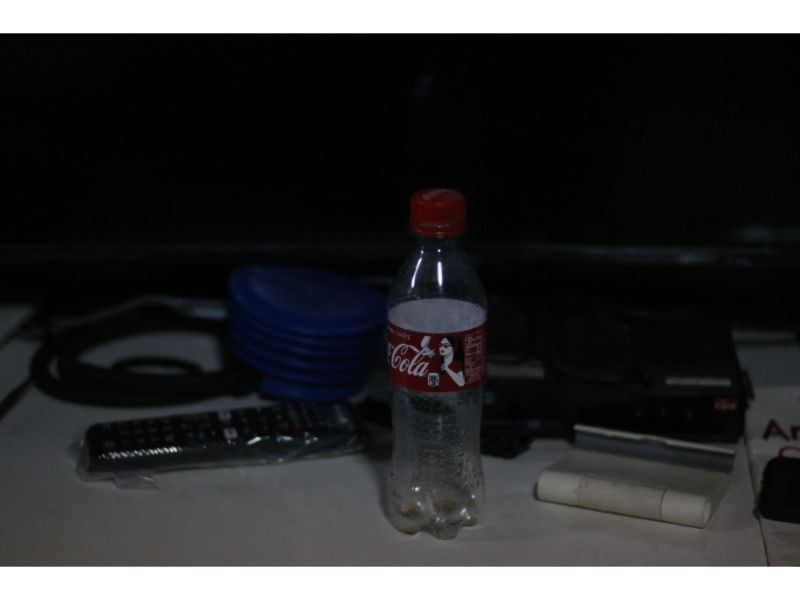PET #1: (381, 182, 491, 544)
